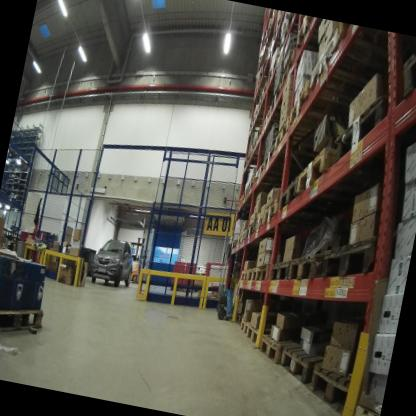forklift: (119, 226, 152, 284)
pallet: (281, 64, 391, 153), (325, 80, 402, 187), (301, 26, 398, 106), (290, 131, 348, 216), (314, 225, 378, 296), (270, 114, 345, 171), (298, 353, 365, 416), (272, 335, 331, 387), (254, 321, 311, 371), (277, 43, 327, 93), (275, 169, 311, 227), (0, 298, 42, 347), (385, 39, 416, 105), (283, 247, 323, 293), (253, 157, 305, 191), (243, 315, 283, 354), (267, 81, 310, 117), (260, 142, 303, 177), (258, 104, 292, 146), (266, 250, 295, 292), (292, 15, 325, 49), (260, 192, 285, 232), (274, 20, 300, 58), (250, 123, 275, 158), (243, 141, 271, 170), (256, 77, 278, 113), (348, 396, 382, 416), (237, 309, 261, 337), (234, 192, 266, 213), (264, 52, 284, 81), (256, 262, 274, 290), (240, 185, 263, 206), (237, 227, 261, 247), (245, 175, 264, 197), (244, 264, 260, 287), (254, 212, 266, 233), (238, 264, 249, 286), (229, 235, 244, 250), (246, 223, 257, 242), (180, 283, 193, 296)
pallet_truck: (212, 242, 252, 321), (208, 243, 237, 322)
